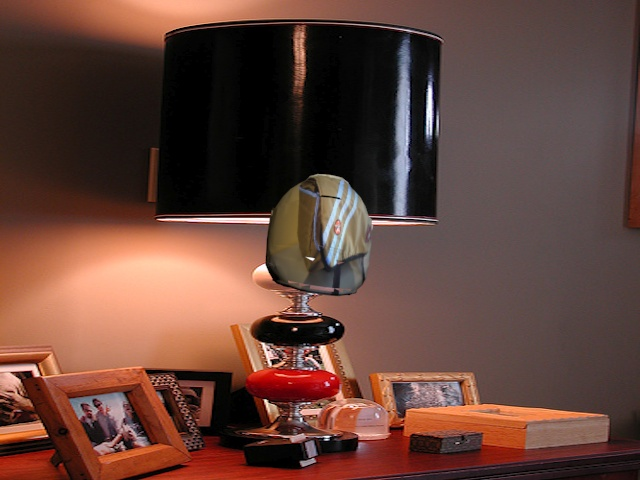bike_helmet: (256, 160, 384, 304)
